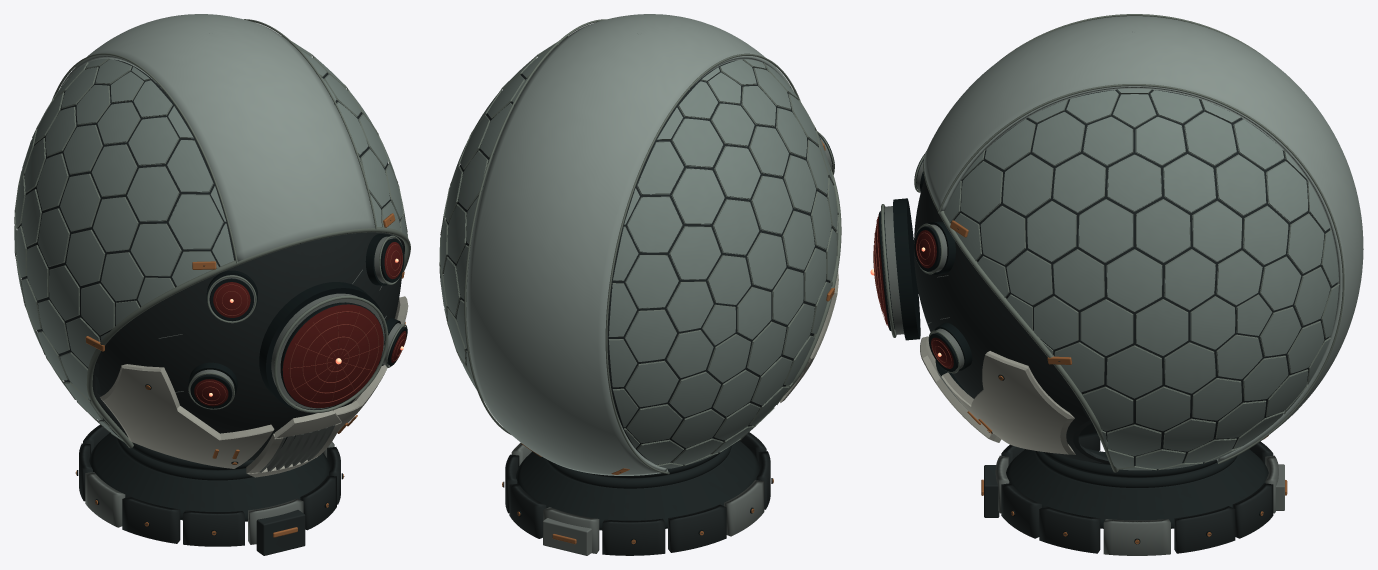
3 views of the same model, side by side, from view 1: azimuth 30°, elevation 25°; view 2: azimuth 150°, elevation 25°; view 3: azimuth 270°, elevation 25° (orthographic). The views are drawn at different scales.
Parts seen in each view (by area): view 1: SURFACE_SHELL, SURFACE_CROWN_BAND, SURFACE_FACEPLATE, SURFACE_COLLAR, OPTICAL_GLASS, SURFACE_JAW, SURFACE_OPTICS, SURFACE_RESPIRATOR; view 2: SURFACE_SHELL, SURFACE_CROWN_BAND, SURFACE_COLLAR, SURFACE_JAW; view 3: SURFACE_SHELL, SURFACE_CROWN_BAND, SURFACE_COLLAR, SURFACE_FACEPLATE, SURFACE_OPTICS, SURFACE_JAW, OPTICAL_GLASS, SURFACE_RESPIRATOR.
Boxes of the visible parts, x1,y1,x2,y2 form: SURFACE_SHELL: [14, 36, 410, 448]; SURFACE_CROWN_BAND: [52, 14, 377, 263]; SURFACE_FACEPLATE: [95, 232, 401, 460]; SURFACE_COLLAR: [75, 424, 344, 555]; OPTICAL_GLASS: [194, 242, 406, 408]; SURFACE_JAW: [100, 296, 408, 468]; SURFACE_OPTICS: [188, 234, 407, 413]; SURFACE_RESPIRATOR: [246, 410, 341, 477]; SURFACE_SHELL: [439, 36, 841, 474]; SURFACE_CROWN_BAND: [464, 14, 800, 475]; SURFACE_COLLAR: [502, 432, 773, 555]; SURFACE_JAW: [780, 270, 838, 402]; SURFACE_SHELL: [923, 89, 1339, 472]; SURFACE_CROWN_BAND: [923, 14, 1363, 464]; SURFACE_COLLAR: [981, 423, 1287, 555]; SURFACE_FACEPLATE: [914, 179, 1109, 463]; SURFACE_OPTICS: [879, 154, 972, 373]; SURFACE_JAW: [941, 351, 1075, 454]; OPTICAL_GLASS: [873, 214, 953, 368]; SURFACE_RESPIRATOR: [920, 336, 1001, 442].
Bounding box in the file's own units: 0.2786 × 0.379 × 0.3553.
